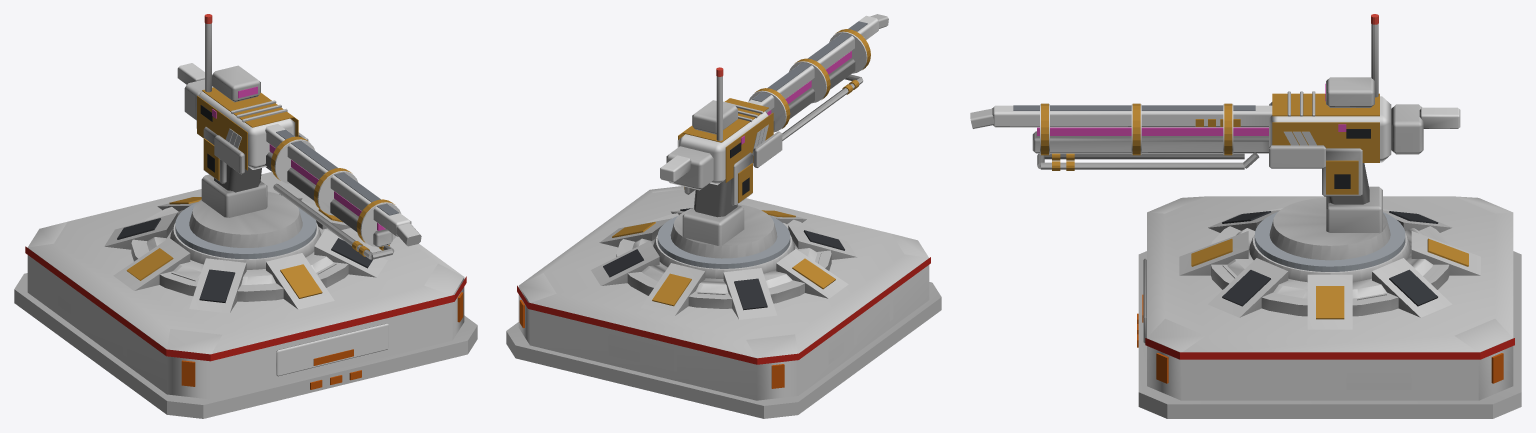
File: sniper_2.glb
The picture shows the model from 3 angles, left to right: view 1: azimuth 30°, elevation 25°; view 2: azimuth 150°, elevation 25°; view 3: azimuth 270°, elevation 25°; orthographic projection. The views are drawn at different scales.
Visible parts, largest first — view 1: Rumpf, Railgun, Lagerbock, Ladung; view 2: Rumpf, Railgun, Lagerbock, Ladung; view 3: Rumpf, Railgun, Lagerbock, Ladung.
Part boxes in pixels (x1=…): Rumpf: x1=14, y1=172, x2=477, y2=418; Railgun: x1=177, y1=14, x2=421, y2=259; Lagerbock: x1=189, y1=127, x2=302, y2=247; Ladung: x1=212, y1=86, x2=385, y2=230; Rumpf: x1=506, y1=186, x2=941, y2=418; Railgun: x1=660, y1=14, x2=888, y2=190; Lagerbock: x1=670, y1=152, x2=777, y2=258; Ladung: x1=741, y1=51, x2=851, y2=144; Rumpf: x1=1137, y1=196, x2=1521, y2=418; Railgun: x1=970, y1=14, x2=1460, y2=170; Lagerbock: x1=1269, y1=148, x2=1390, y2=260; Ladung: x1=1037, y1=83, x2=1346, y2=135.
Bounding box in the file's own units: 0.94 × 0.85 × 1.35.
